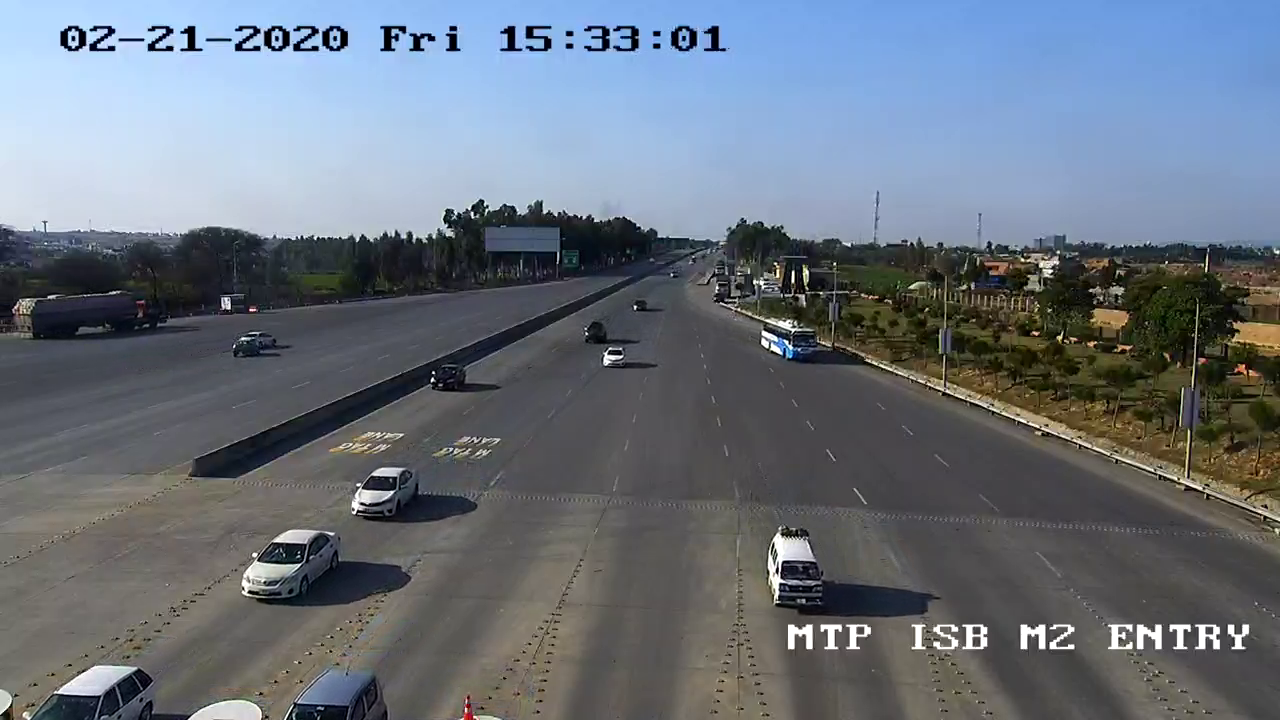f1: (229, 521, 355, 610), (755, 522, 839, 618), (342, 458, 431, 534)
